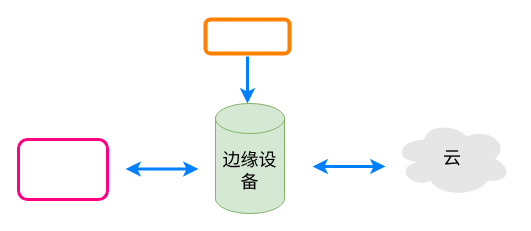
This 531x231 diagram has some shape labels left out. Here are the shapes that lost their labels. From the top down, the box of each, then its label:
(203, 17, 291, 55): 软件
(16, 138, 108, 200): IoT设备
